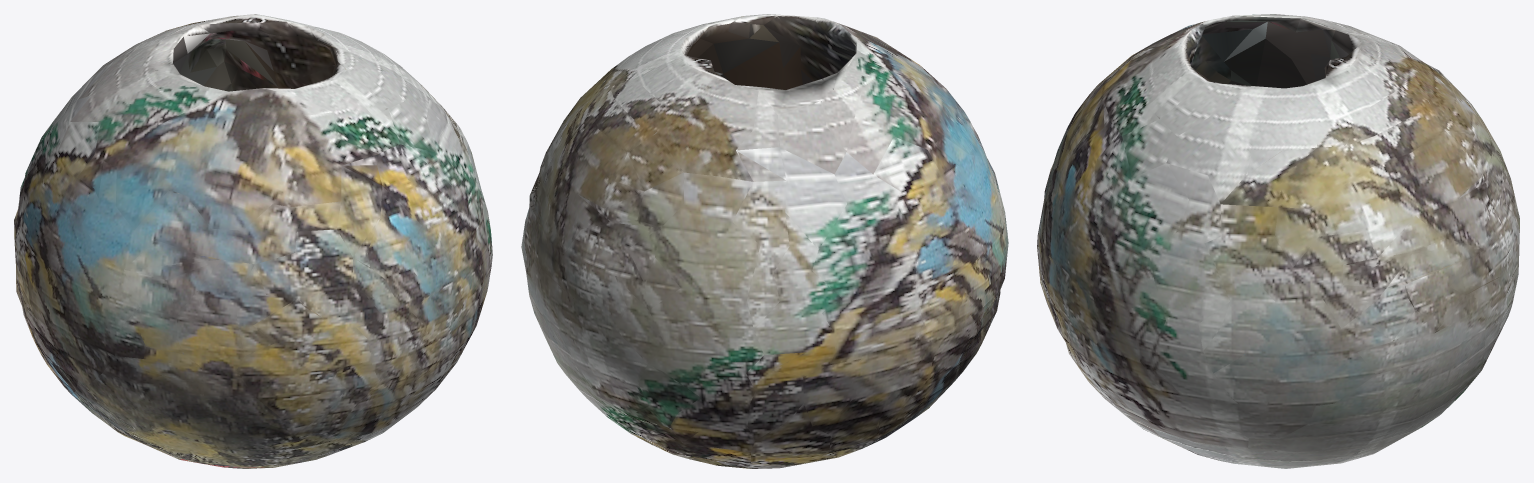
The model's file is AS1 Alex Landscape3.glb.
3 views of the same model, side by side, from view 1: azimuth 30°, elevation 25°; view 2: azimuth 150°, elevation 25°; view 3: azimuth 270°, elevation 25° (orthographic).
Bounding box in the file's own units: 1000 × 906 × 992.
Materials: 1 (1 with a texture image).
